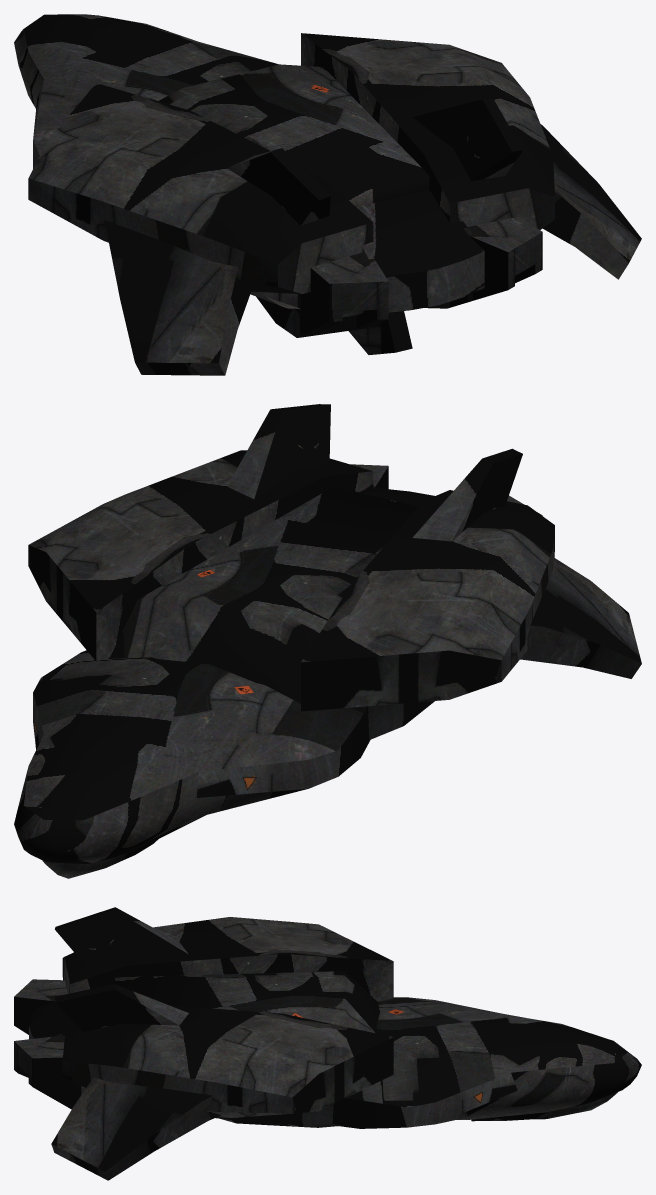
Rendered from Caravan.fbx.
3 views of the same model, one above another, from view 1: azimuth 30°, elevation 25°; view 2: azimuth 150°, elevation 25°; view 3: azimuth 270°, elevation 25° (orthographic). The views are drawn at different scales.
Parts seen in each view (by area): view 1: PipelineFBX; view 2: PipelineFBX; view 3: PipelineFBX.
Boxes of the visible parts, bbox=[...] form: PipelineFBX: bbox=[14, 14, 641, 375]; PipelineFBX: bbox=[14, 404, 641, 878]; PipelineFBX: bbox=[14, 907, 641, 1180].
Size of the model in its own units: 238 by 105 by 336.
1 material, 1 textured.
